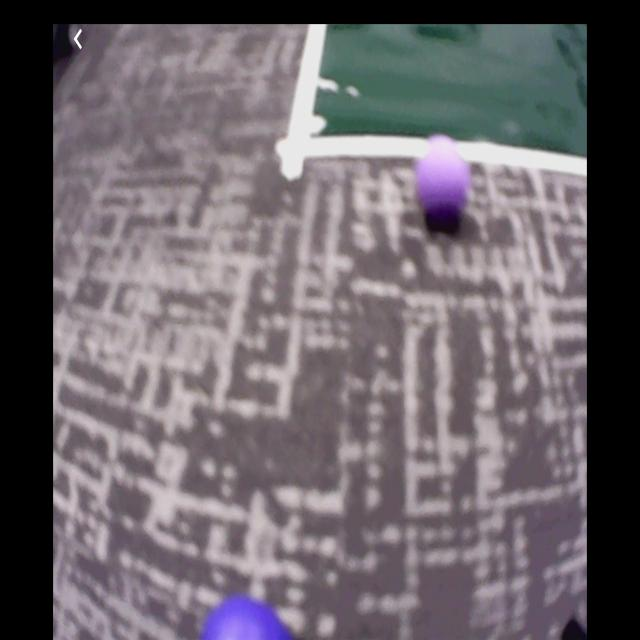ball: (416, 135, 469, 223), (199, 595, 294, 640)
